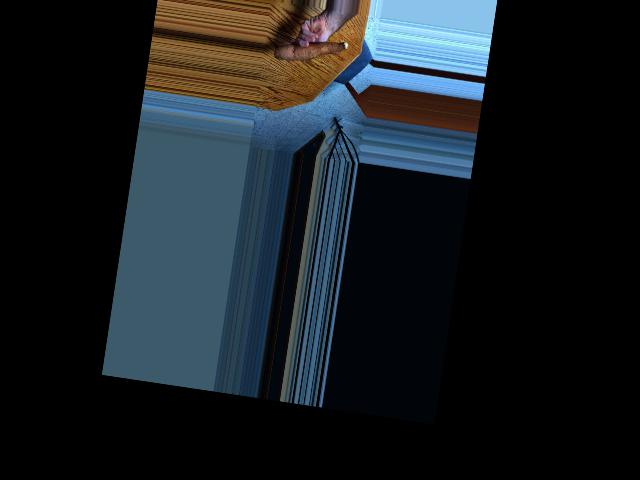sweet_potato: (274, 29, 349, 72)
